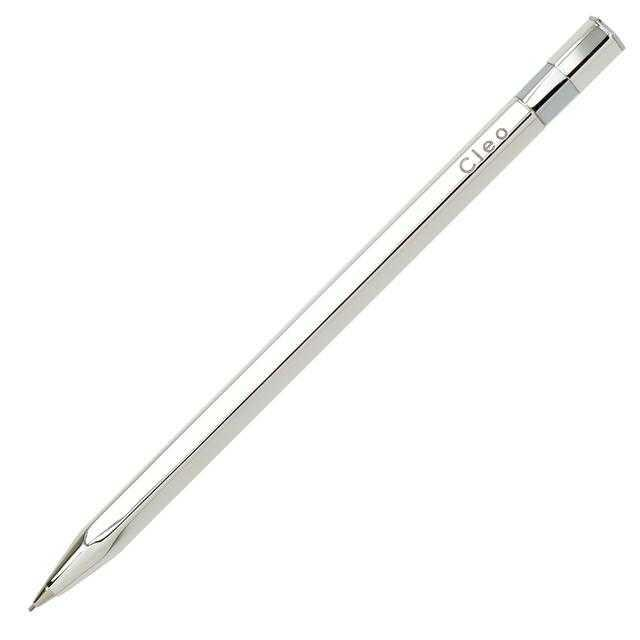pencil: (14, 5, 639, 630)
